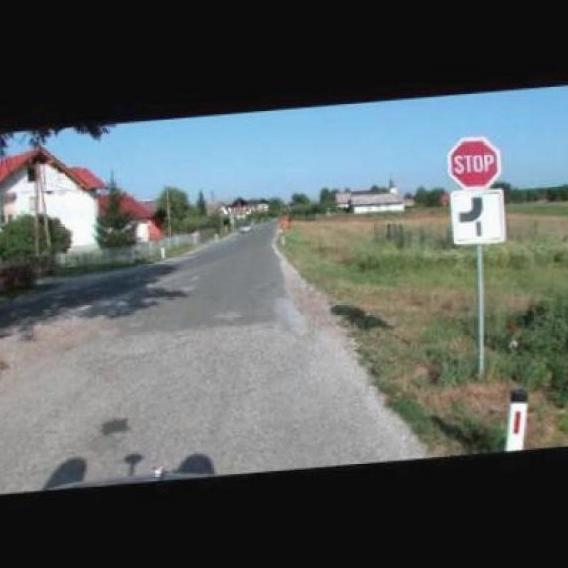stop_sign: (445, 136, 504, 195)
